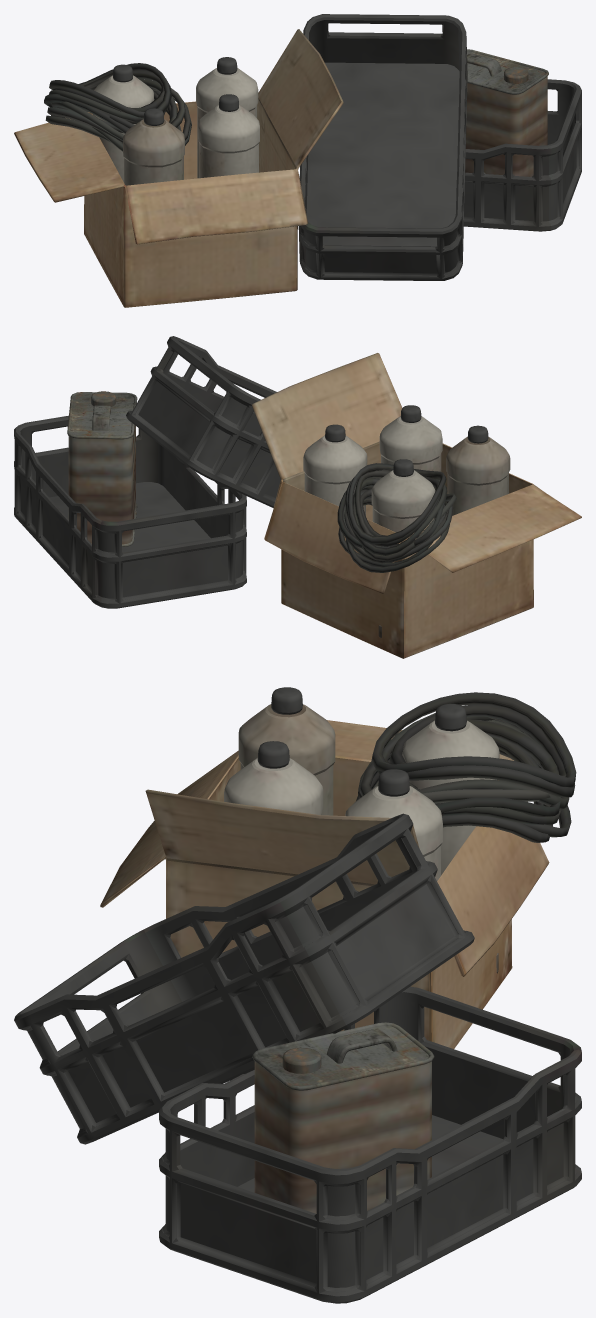
File: prop_medium_001.glb
3 renders of one model, top to bottom at view 1: azimuth 30°, elevation 25°; view 2: azimuth 150°, elevation 25°; view 3: azimuth 270°, elevation 25°, orthographic. The views are drawn at different scales.
Parts seen in each view (by area): view 1: Building_12_015; view 2: Building_12_015; view 3: Building_12_015.
Part boxes in pixels (left/top/right/bottom): Building_12_015: left=14, top=14, right=581, bottom=307; Building_12_015: left=14, top=336, right=581, bottom=658; Building_12_015: left=14, top=687, right=581, bottom=1303.
Bounding box in the file's own units: 1.2 × 0.4166 × 0.6962.
1 material, 1 textured.
